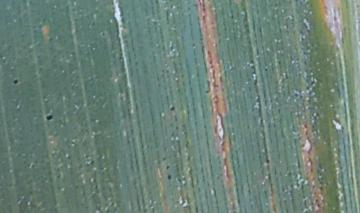tarspot: (44, 113, 54, 122), (12, 77, 20, 85), (168, 105, 176, 113), (164, 164, 172, 172), (166, 172, 173, 181), (160, 156, 167, 163), (263, 157, 270, 164), (262, 66, 269, 73), (100, 29, 106, 37)
